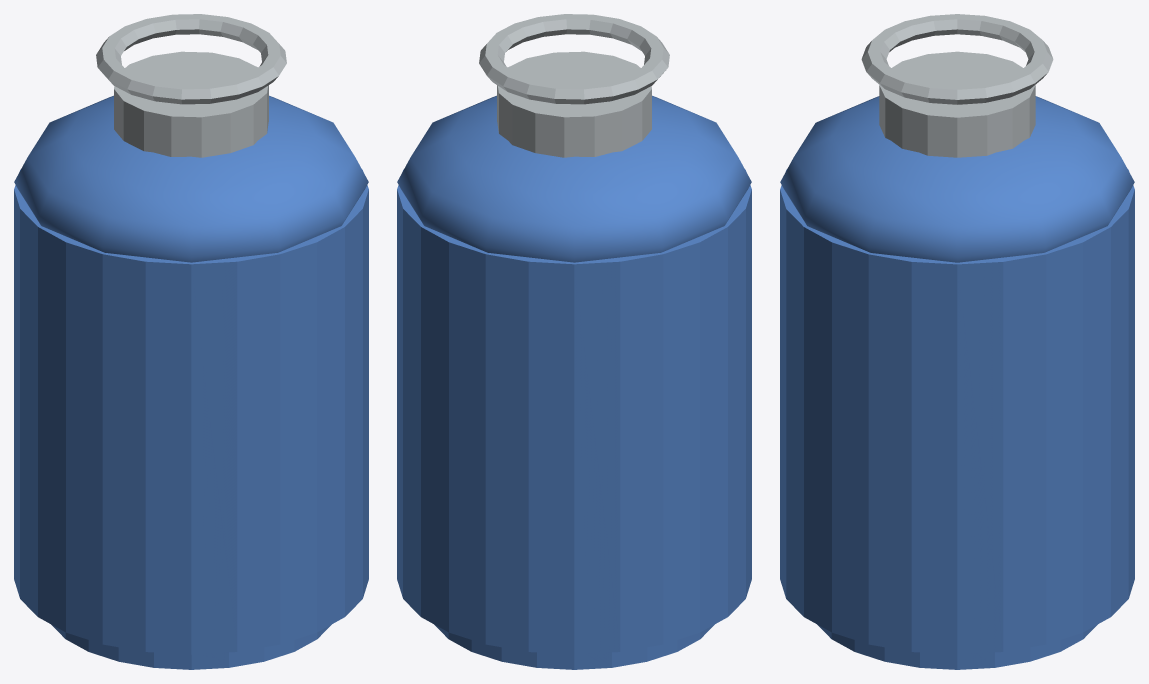
File: gas_cylinder_6kg_blue.glb
3 views of the same model, side by side, from view 1: azimuth 30°, elevation 25°; view 2: azimuth 150°, elevation 25°; view 3: azimuth 270°, elevation 25° (orthographic).
Visible parts, largest first — view 1: gas bottle, cylinder shoulder, cylinder neck, guard hoop, foot ring; view 2: gas bottle, cylinder shoulder, cylinder neck, guard hoop, foot ring; view 3: gas bottle, cylinder shoulder, cylinder neck, guard hoop, foot ring.
Part boxes in pixels (x1,y1,x2,y2): gas bottle: [14, 169, 368, 654]; cylinder shoulder: [14, 95, 368, 262]; cylinder neck: [114, 51, 268, 157]; guard hoop: [96, 14, 286, 104]; foot ring: [51, 624, 331, 669]; gas bottle: [397, 169, 751, 654]; cylinder shoulder: [397, 95, 751, 262]; cylinder neck: [497, 51, 651, 157]; guard hoop: [479, 14, 669, 104]; foot ring: [434, 624, 714, 669]; gas bottle: [780, 169, 1134, 654]; cylinder shoulder: [780, 96, 1134, 262]; cylinder neck: [879, 51, 1035, 157]; guard hoop: [861, 14, 1053, 104]; foot ring: [817, 624, 1097, 669].
Size of the model in its own units: 0.26 by 0.4502 by 0.26.
